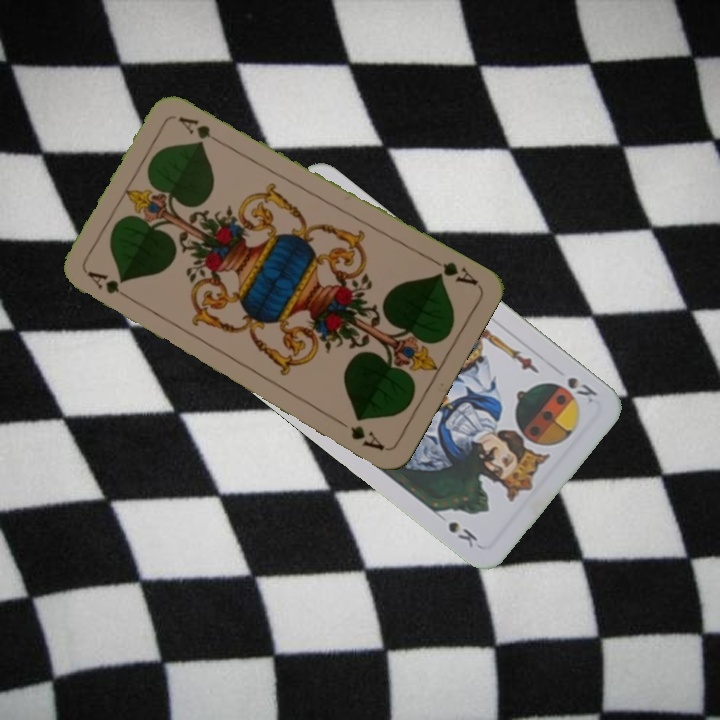GA: (83, 267, 137, 305), (425, 253, 481, 288)
SK: (563, 372, 600, 407)
